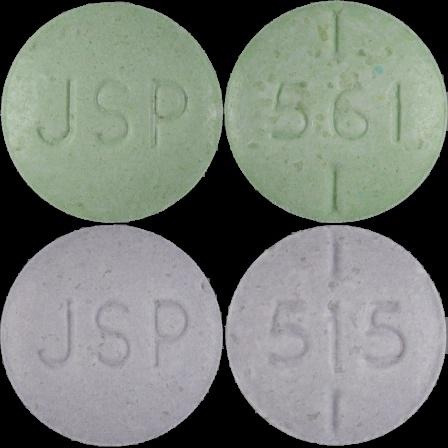51655-092: (0, 0, 224, 224)
